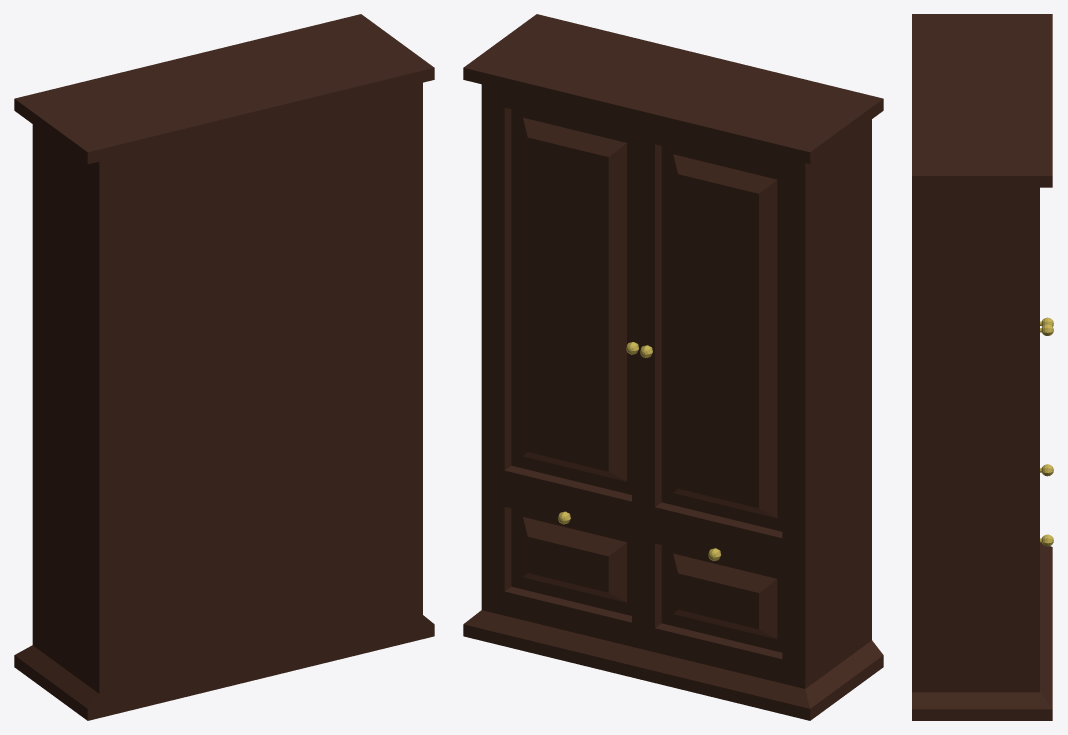
File: Wardrobe.fbx
3 views of the same model, side by side, from view 1: azimuth 30°, elevation 25°; view 2: azimuth 150°, elevation 25°; view 3: azimuth 270°, elevation 25° (orthographic). The views are drawn at different scales.
Visible parts, largest first — view 1: Wardrobe; view 2: Wardrobe; view 3: Wardrobe, Handle.001.
Part boxes in pixels (left/top/right/bottom): Wardrobe: left=14, top=14, right=434, bottom=720; Wardrobe: left=463, top=14, right=883, bottom=720; Wardrobe: left=912, top=14, right=1052, bottom=720; Handle.001: left=1040, top=464, right=1053, bottom=546.
Bounding box in the file's own units: 150 × 235 × 55.5.
